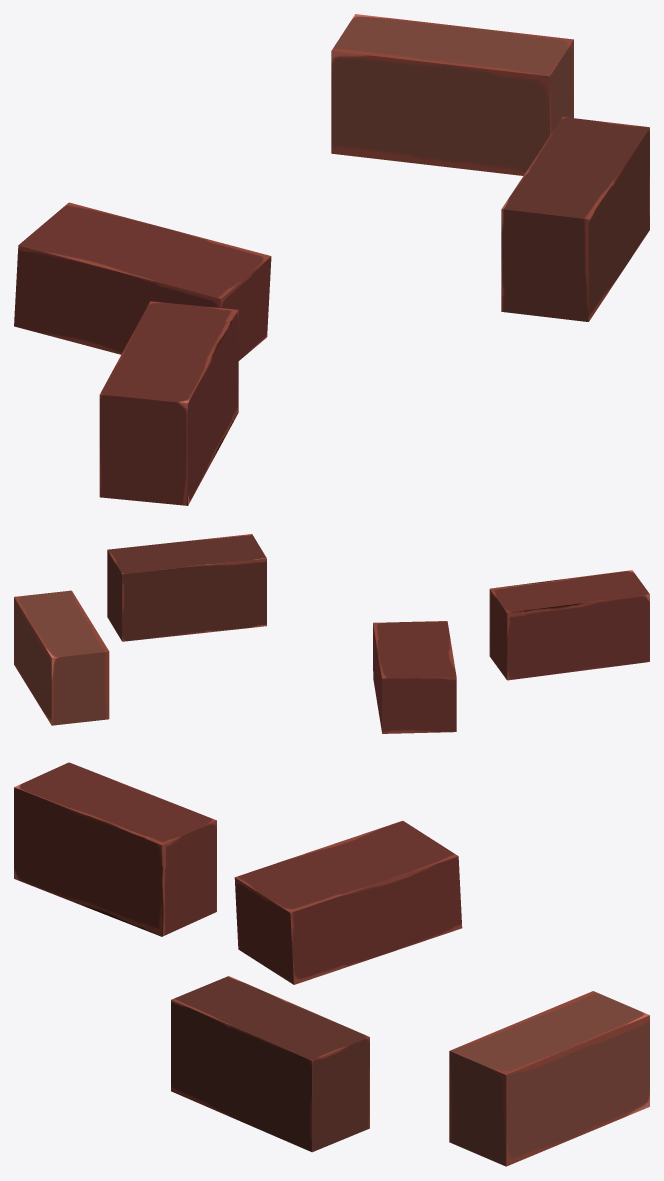
File: debris_bricks05.fbx
The picture shows the model from 3 angles, top to bottom: view 1: azimuth 30°, elevation 25°; view 2: azimuth 150°, elevation 25°; view 3: azimuth 270°, elevation 25°; orthographic projection. The views are drawn at different scales.
Visible parts, largest first — view 1: debris_bricks05; view 2: debris_bricks05; view 3: debris_bricks05.
Part boxes in pixels (bbox=[...]): debris_bricks05: bbox=[14, 14, 649, 505]; debris_bricks05: bbox=[14, 534, 649, 733]; debris_bricks05: bbox=[14, 762, 649, 1166].
Bounding box in the file's own units: 183 × 25.97 × 157.
